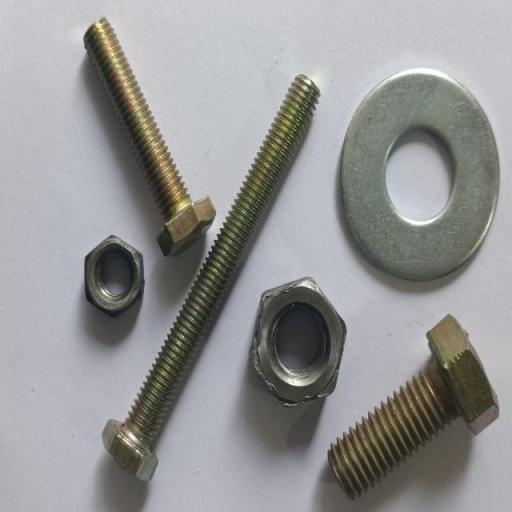Bolt: (101, 73, 322, 485), (326, 313, 501, 501), (82, 16, 216, 257)
Nut: (247, 276, 349, 408), (83, 234, 147, 317)
Washer: (338, 67, 501, 283)
